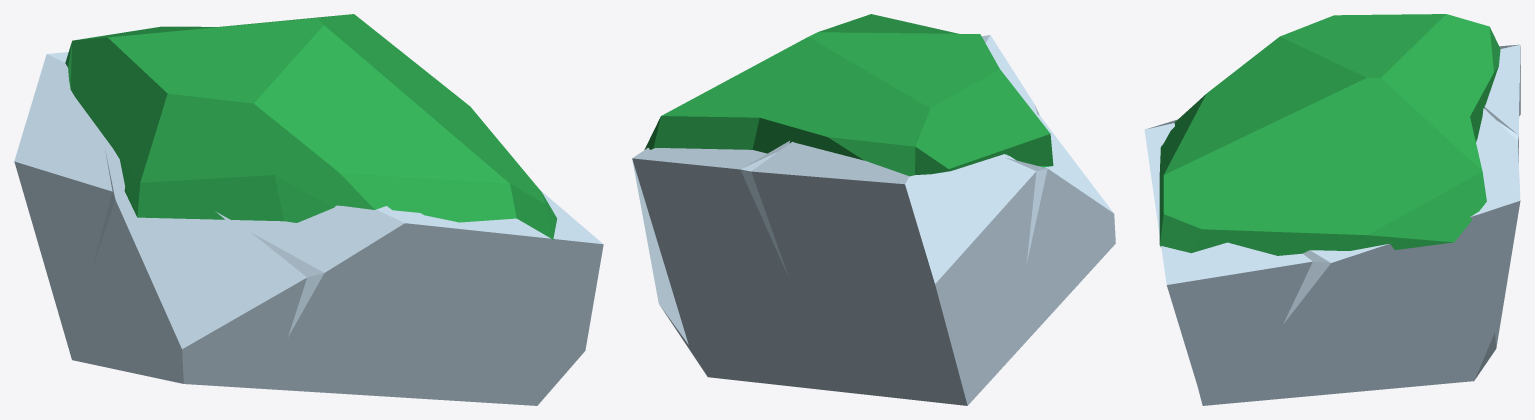
The model's file is Rock 1.fbx.
The picture shows the model from 3 angles, left to right: view 1: azimuth 30°, elevation 25°; view 2: azimuth 150°, elevation 25°; view 3: azimuth 270°, elevation 25°; orthographic projection. The views are drawn at different scales.
Parts seen in each view (by area): view 1: Rock 1; view 2: Rock 1; view 3: Rock 1.
Boxes of the visible parts, <box> form: Rock 1: <box>14,14,603,405</box>; Rock 1: <box>632,14,1115,405</box>; Rock 1: <box>1144,14,1520,405</box>.
Bounding box in the file's own units: 567 × 469 × 567.
